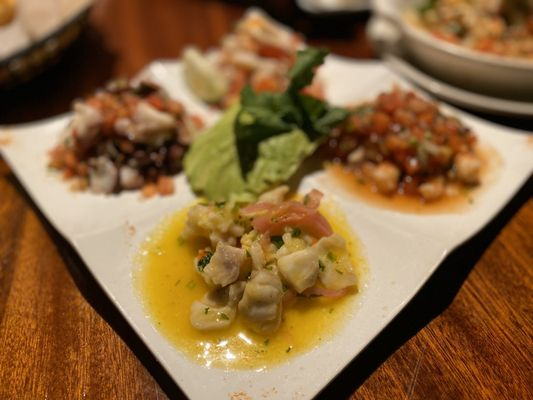sushi: (368, 0, 533, 101)
